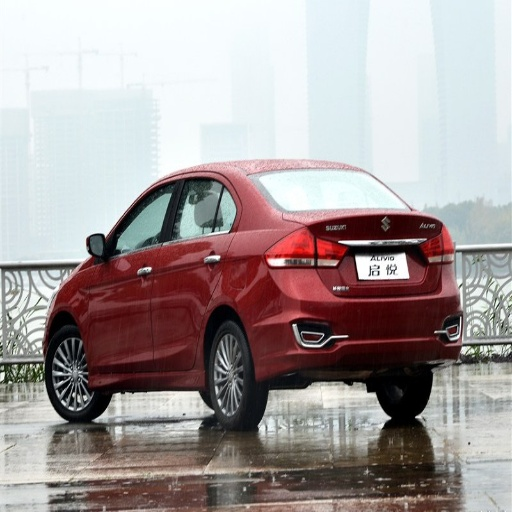back_bumper: (252, 263, 460, 377)
back_glass: (257, 169, 396, 210)
back_left_door: (151, 172, 239, 371)
tailgate: (310, 204, 434, 294)
